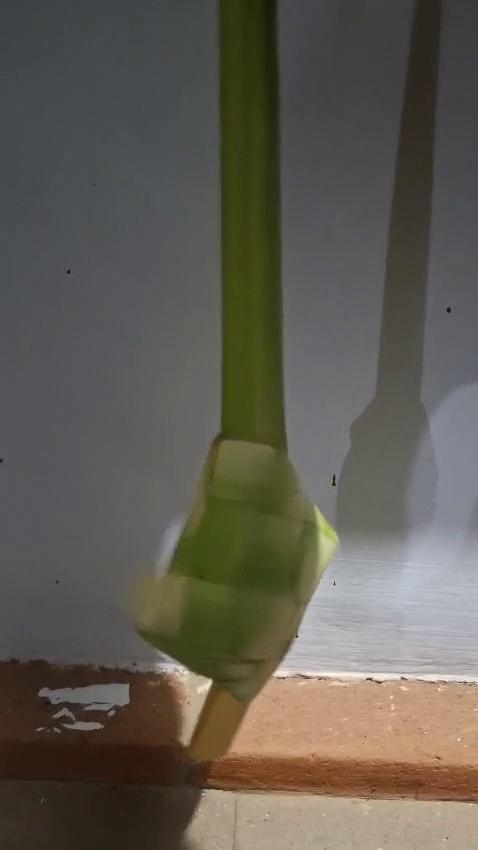Tipat Nasi: (130, 425, 358, 763)
